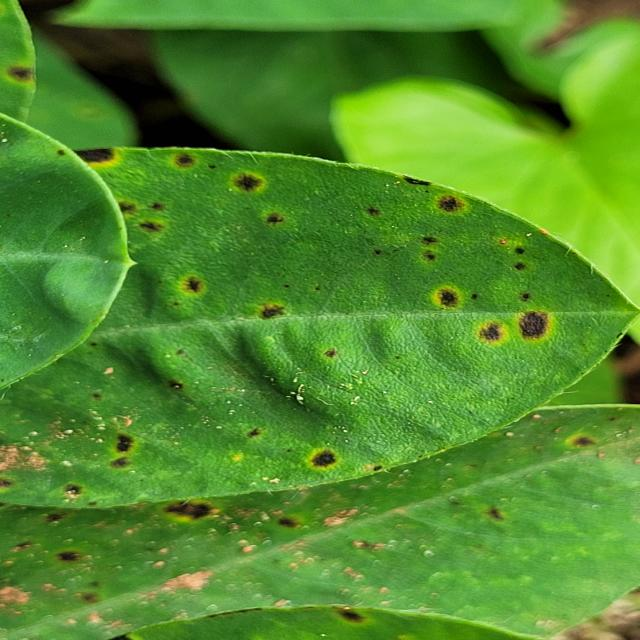Ground nut_tikka leaf spot: (4, 147, 640, 505)
